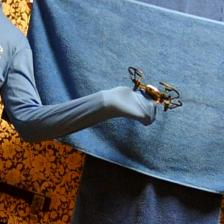drone: (128, 65, 183, 112)
